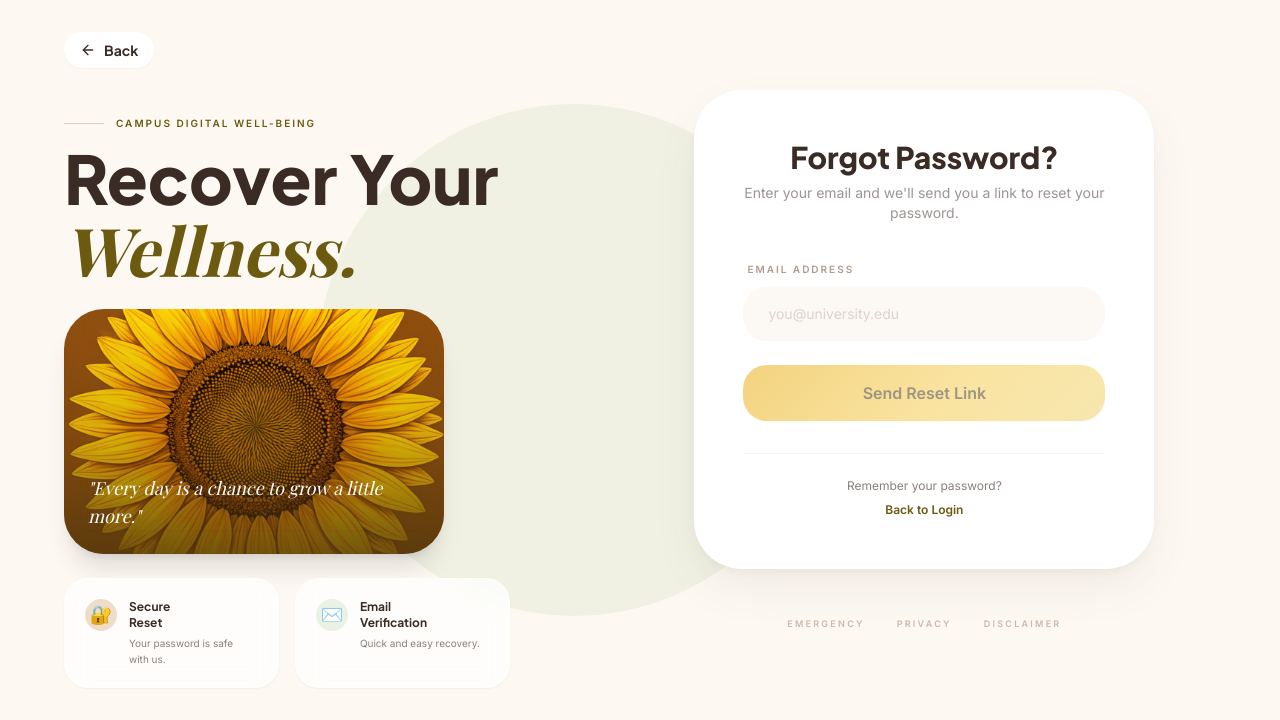
it: password recovery request › shows the same neutral response when Supabase rejects the request
Type "unknown@example.edu" into the field labelled "Email Address" at (924, 314), box [743,287,1105,341]
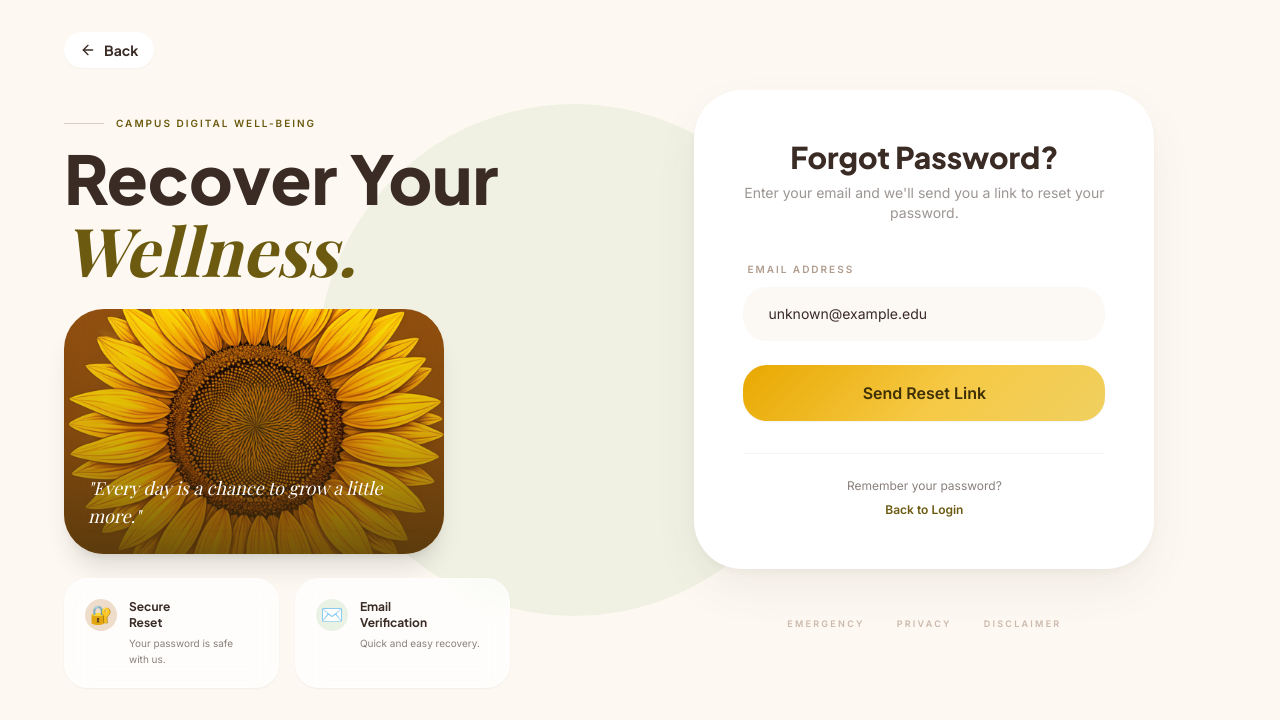
Click the button "Send Reset Link" at (924, 393), box [743,365,1105,421]
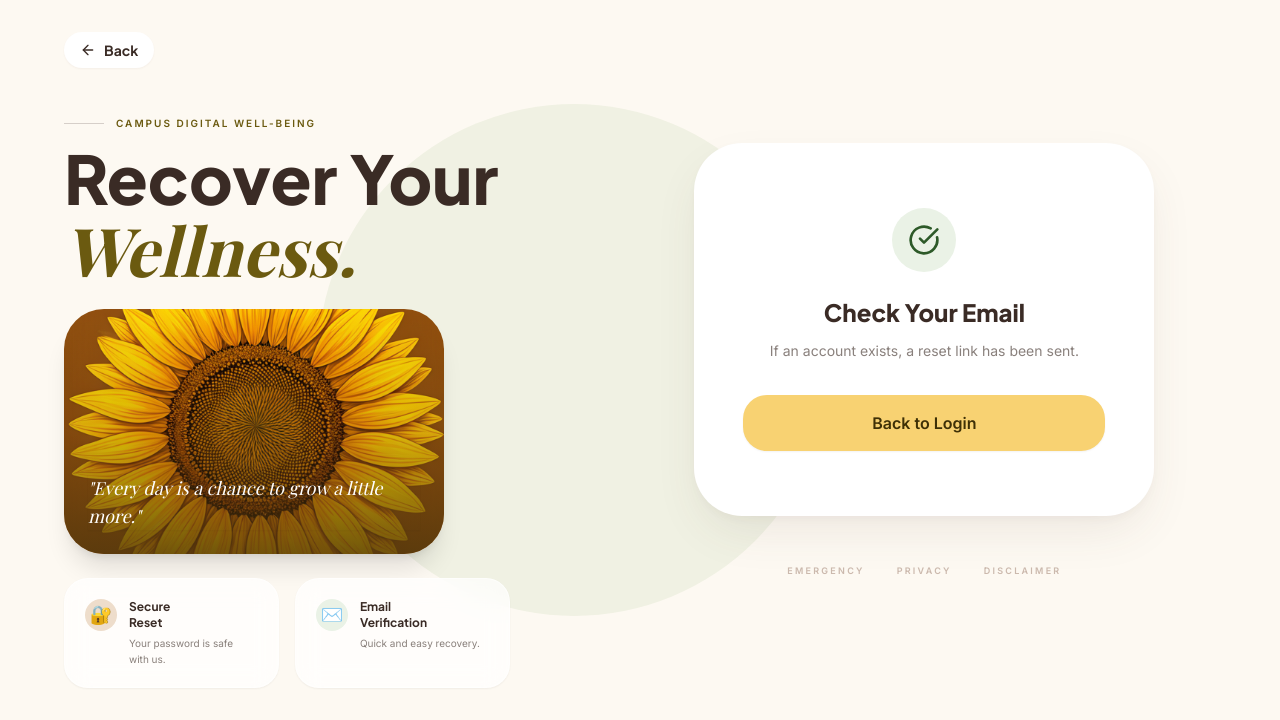
Expected: the text "If an account exists, a reset link has been sent." is shown, [743,340,1105,363]
